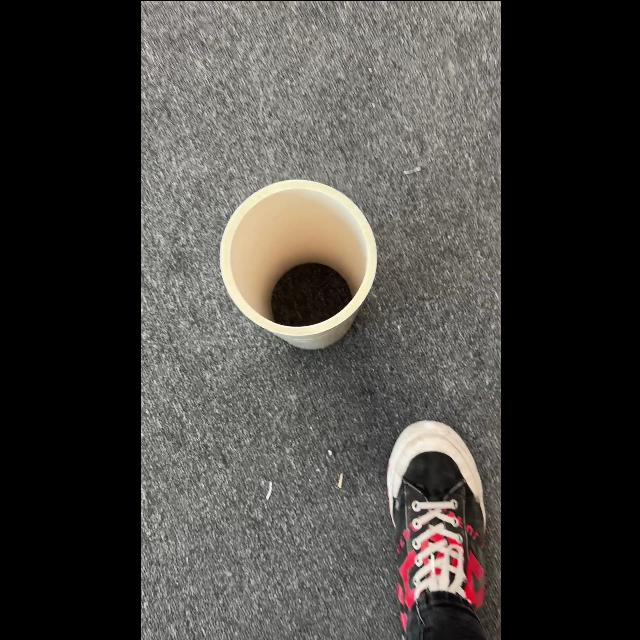CORAL: (218, 177, 378, 349)
